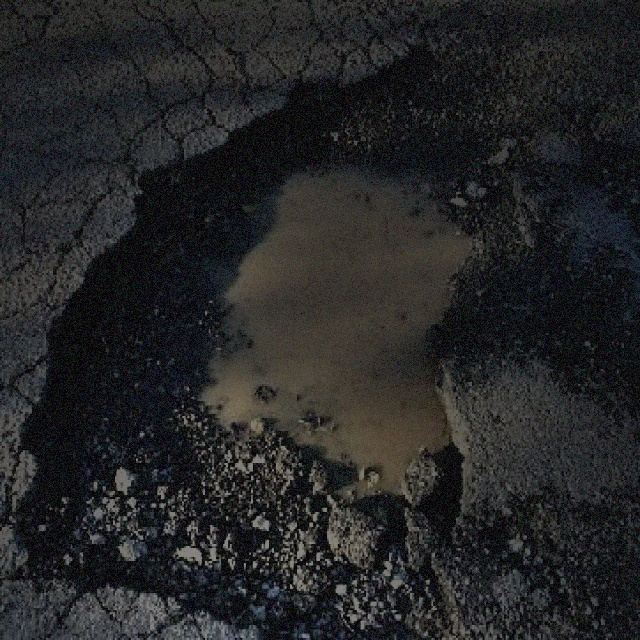pothole: (7, 43, 527, 638)
